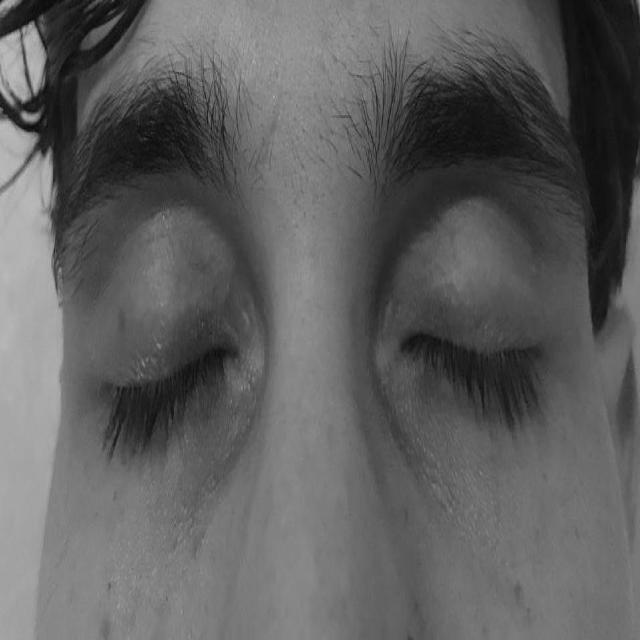real: (75, 210, 574, 484)
